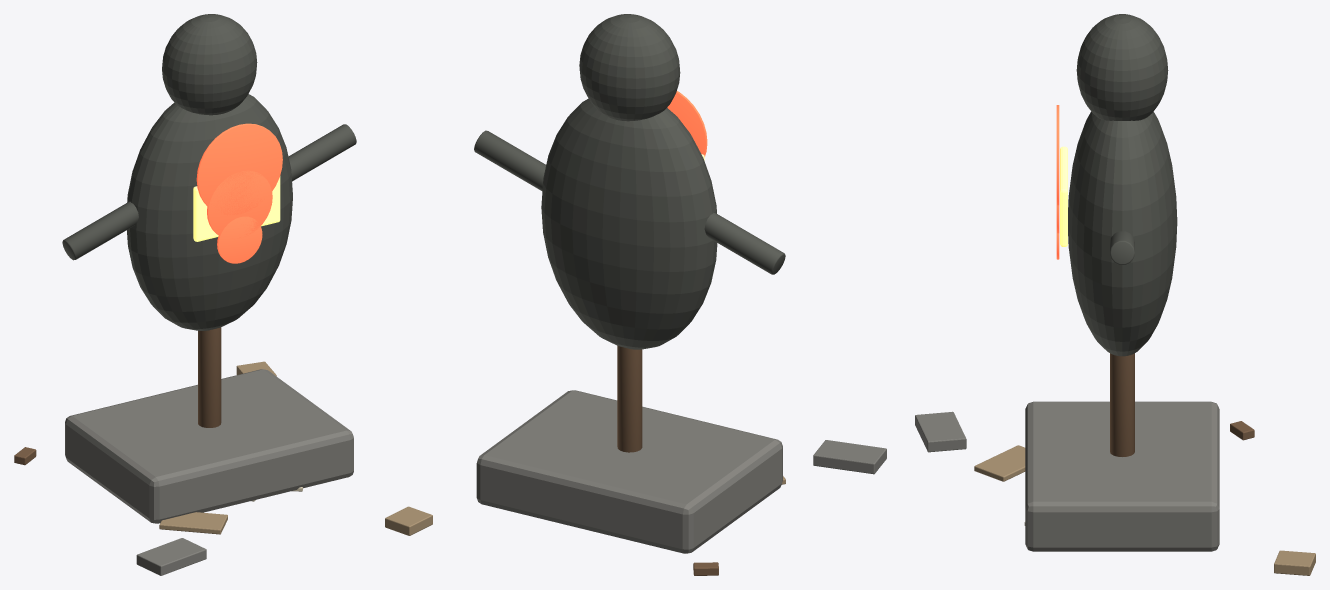
Rendered from dz_target_training_dummy_premium.glb.
3 views of the same model, side by side, from view 1: azimuth 30°, elevation 25°; view 2: azimuth 150°, elevation 25°; view 3: azimuth 270°, elevation 25° (orthographic). The views are drawn at different scales.
Parts seen in each view (by area): view 1: concrete_weighted_base, stuffed_torn_torso, burlap_head_target, painted_hit_ring_2, painted_hit_ring_1, rusted_support_pole, loose_canvas_arm_-1, loose_canvas_arm_1, dummy_floor_debris_06, painted_hit_ring_0, yellow_impact_plate, dummy_floor_debris_04; view 2: stuffed_torn_torso, concrete_weighted_base, burlap_head_target, rusted_support_pole, loose_canvas_arm_-1, loose_canvas_arm_1, dummy_floor_debris_06, painted_hit_ring_2, dummy_floor_debris_01; view 3: concrete_weighted_base, stuffed_torn_torso, burlap_head_target, rusted_support_pole, dummy_floor_debris_06, dummy_floor_debris_04, dummy_floor_debris_01, yellow_impact_plate, loose_canvas_arm_1.
Part boxes in pixels (x1,y1,x2,y2): concrete_weighted_base: (65,369,353,523); stuffed_torn_torso: (127,94,292,330); burlap_head_target: (162,14,257,115); painted_hit_ring_2: (196,123,282,215); painted_hit_ring_1: (207,170,272,237); rusted_support_pole: (198,327,221,427); loose_canvas_arm_-1: (62,201,138,260); loose_canvas_arm_1: (288,124,356,181); dummy_floor_debris_06: (136,538,206,575); painted_hit_ring_0: (217,216,262,263); yellow_impact_plate: (193,176,280,241); dummy_floor_debris_04: (159,512,227,534); stuffed_torn_torso: (541,98,717,349); concrete_weighted_base: (476,390,782,553); burlap_head_target: (579,14,680,121); rusted_support_pole: (617,346,642,452); loose_canvas_arm_-1: (704,213,785,274); loose_canvas_arm_1: (474,130,545,190); dummy_floor_debris_06: (813,440,886,474); painted_hit_ring_2: (667,91,707,156); dummy_floor_debris_01: (385,506,432,535); concrete_weighted_base: (1025,401,1219,551); stuffed_torn_torso: (1068,111,1177,356); burlap_head_target: (1076,14,1168,120); rusted_support_pole: (1110,353,1134,456); dummy_floor_debris_06: (915,411,966,452); dummy_floor_debris_04: (974,445,1025,481); dummy_floor_debris_01: (1274,550,1315,575); yellow_impact_plate: (1060,146,1067,246); loose_canvas_arm_1: (1110,231,1134,264).
Size of what is drawn, in the model's own units: 1.59 by 2.33 by 1.75.
